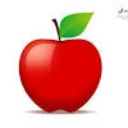apple: (20, 18, 104, 114)
